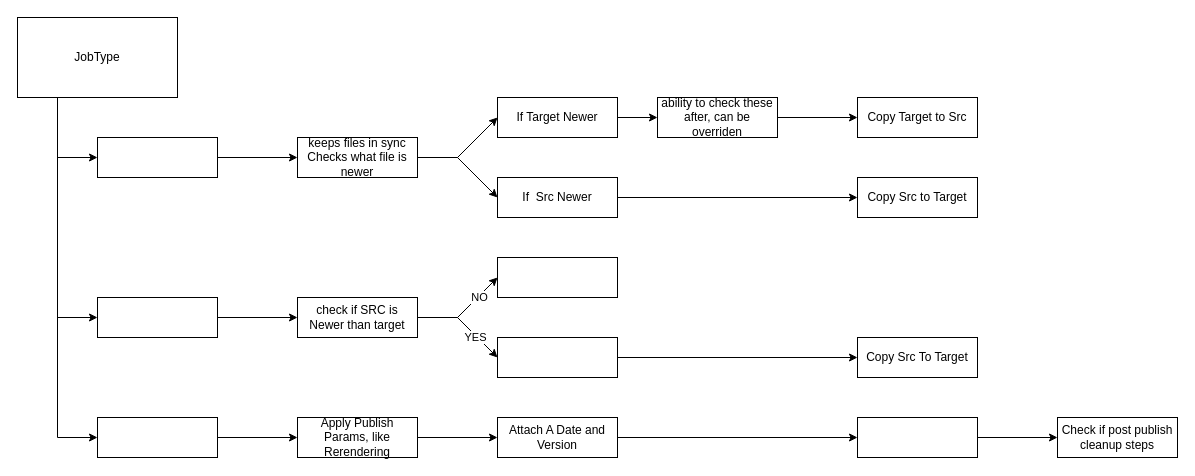
The diagram is 1195 pixels wide and 476 high, and some of its shapes have lost their labels. Here are the shapes that lost their labels. From the top down, the box of each, then its label:
(96, 136, 218, 178): SYNC
(496, 256, 618, 298): Skip
(96, 296, 218, 338): ARCHIVE
(496, 336, 618, 378): Apply Render Params, like Compressing
(96, 416, 218, 458): PUBLISH
(856, 416, 978, 458): Copy Src to Target with Metadata
